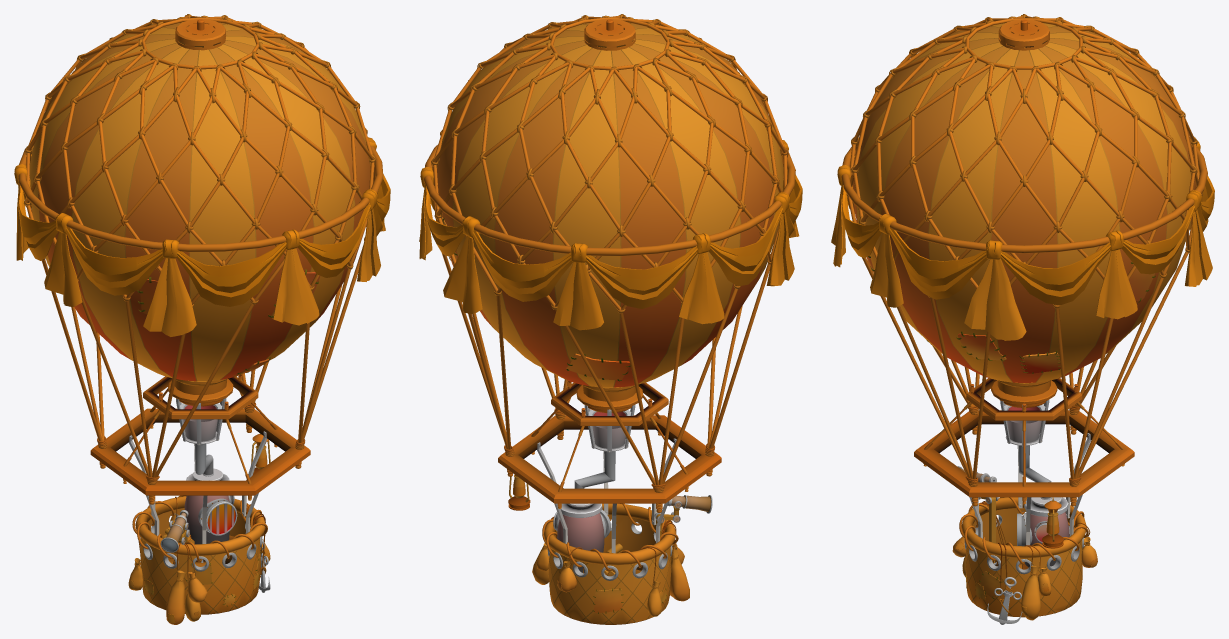
File: hot_air_balloon-orange.glb
3 views of the same model, side by side, from view 1: azimuth 30°, elevation 25°; view 2: azimuth 150°, elevation 25°; view 3: azimuth 270°, elevation 25° (orthographic).
Visible parts, largest first — view 1: BezierCurve.003; view 2: BezierCurve.003; view 3: BezierCurve.003.
Boxes of the visible parts, bbox=[...] form: BezierCurve.003: bbox=[14, 14, 390, 624]; BezierCurve.003: bbox=[419, 14, 802, 624]; BezierCurve.003: bbox=[831, 14, 1214, 624].
Size of the model in its own units: 10.02 by 16.79 by 10.09.
